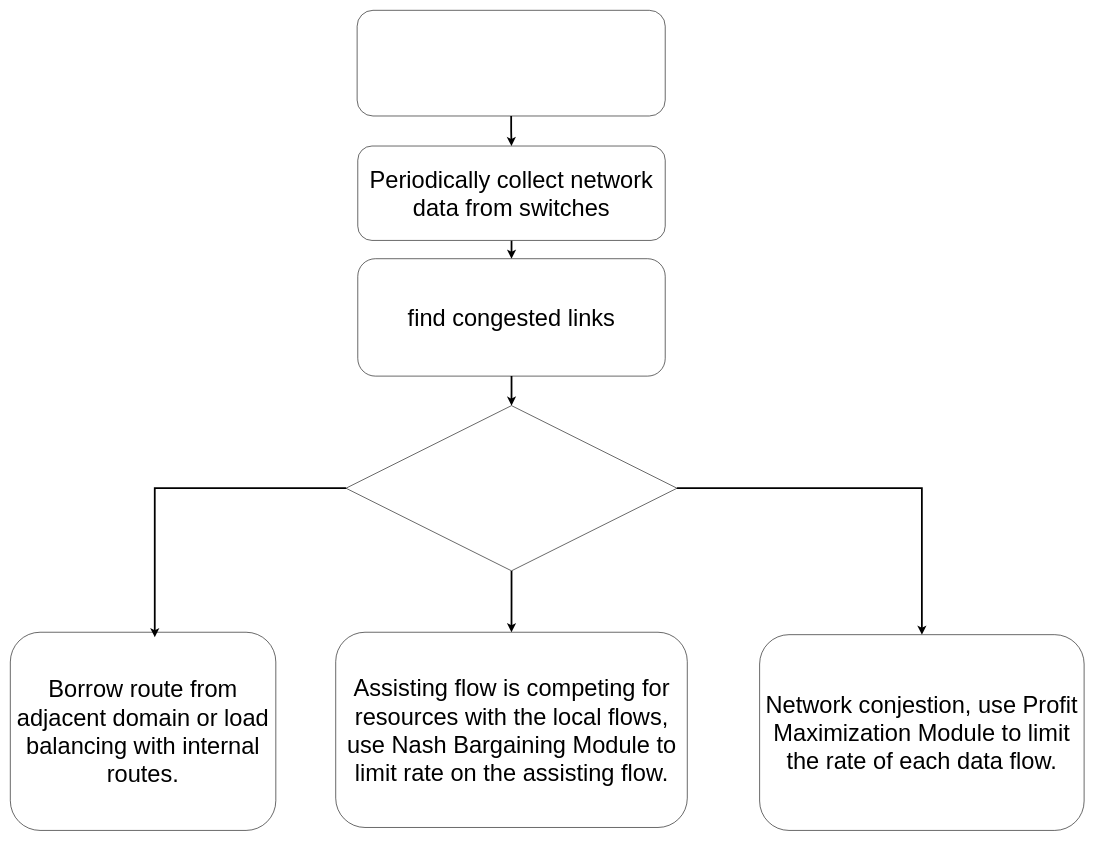
The diagram is 1094 pixels wide and 841 high, and some of its shapes have lost their labels. Each missing label, with the centre of its shape:
"Choose the approach depending on the situation" goes at point 511,488.
"Initialize topology and establish communication" goes at point 511,63.
